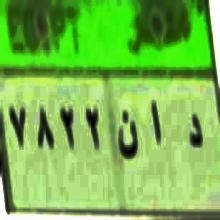2: (59, 101, 77, 160), (86, 104, 102, 154)
7: (8, 101, 27, 156)
8: (36, 102, 54, 157)
alif: (148, 90, 163, 154)
daal: (186, 103, 203, 154)
noon: (118, 104, 138, 167)
